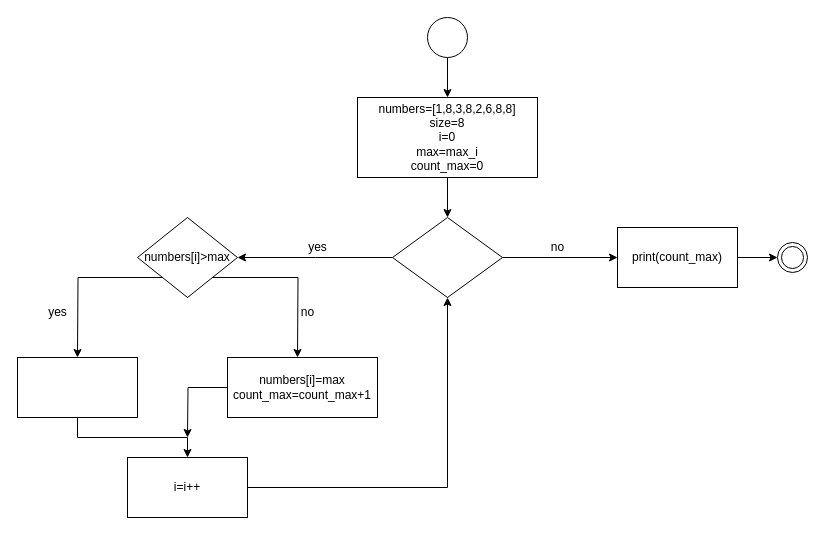
This 825x535 diagram has some shape labels left out. The centre of each missing label's shape, as x and y in pixels:
i<numbers.lengs: (447,257)
max=numbers[i] count_max=1: (77,387)
